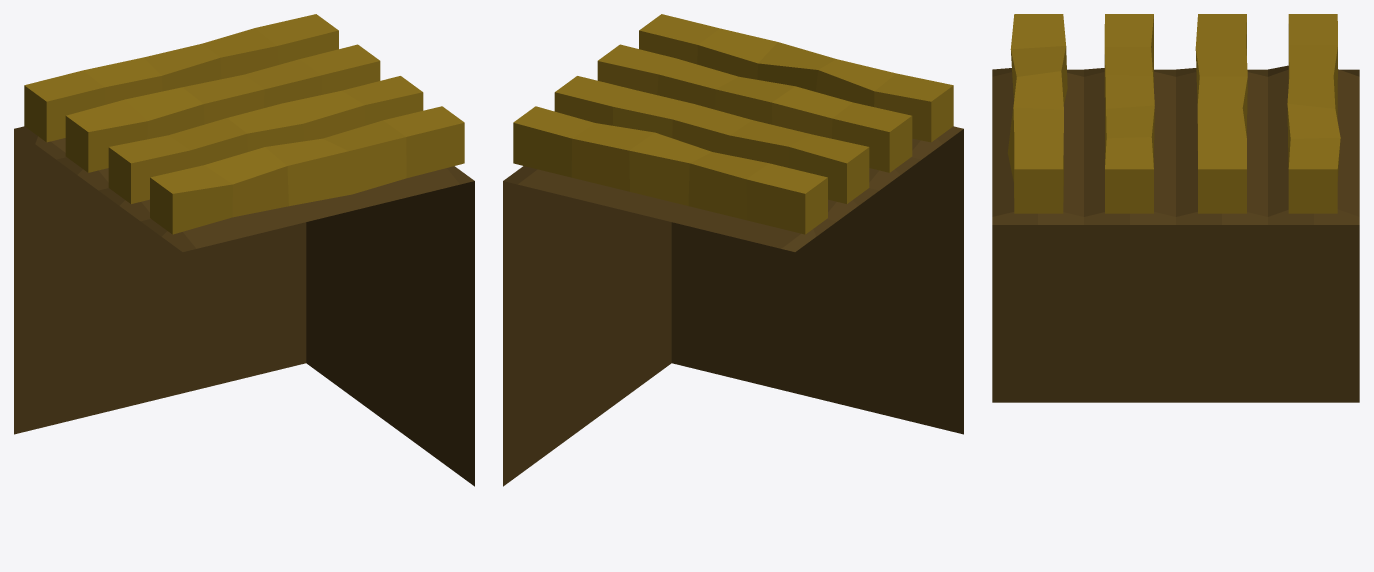
The model's file is crops-3.gltf.
3 renders of one model, left to right at view 1: azimuth 30°, elevation 25°; view 2: azimuth 150°, elevation 25°; view 3: azimuth 270°, elevation 25°, orthographic. The views are drawn at different scales.
Visible parts, largest first — view 1: Plane.001; view 2: Plane.001; view 3: Plane.001.
Part boxes in pixels (x1,y1,x2,y2): Plane.001: [14, 14, 474, 486]; Plane.001: [503, 14, 963, 486]; Plane.001: [992, 14, 1359, 402].
Size of the model in its own units: 1 by 1.18 by 1.
Materials: 1 (1 with a texture image).
